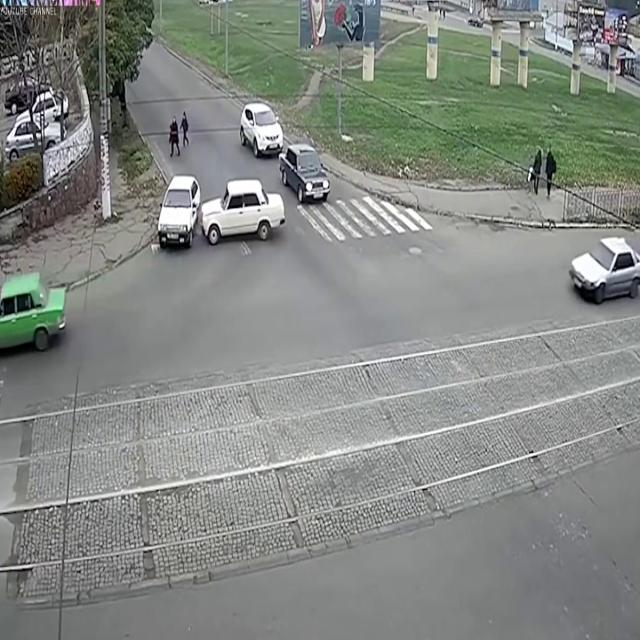accident: (151, 168, 289, 262)
non_accident: (238, 92, 334, 214)
